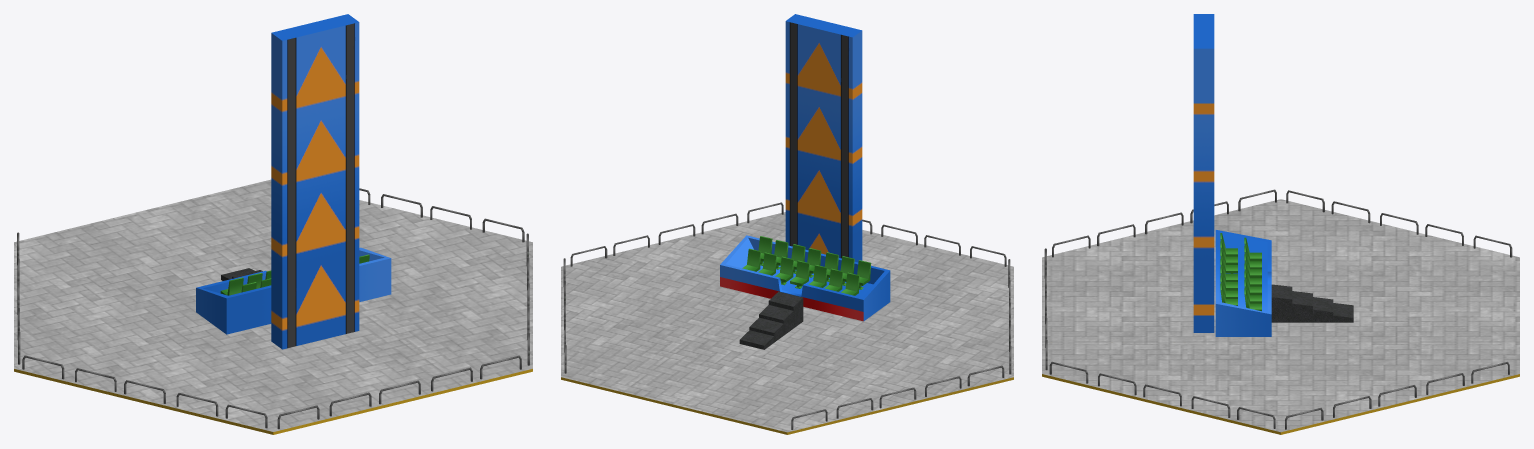
Rendered from ETC0210001.fbx.
3 renders of one model, left to right at view 1: azimuth 30°, elevation 25°; view 2: azimuth 150°, elevation 25°; view 3: azimuth 270°, elevation 25°, orthographic. The views are drawn at different scales.
Parts seen in each view (by area): view 1: smETC0210001; view 2: smETC0210001; view 3: smETC0210001.
Part boxes in pixels (box(x1,y1,x2,y2)): smETC0210001: box(14, 14, 532, 434); smETC0210001: box(561, 14, 1013, 434); smETC0210001: box(1042, 14, 1519, 434).
Size of the model in its own units: 2685 by 1541 by 2325.
1 material, 1 textured.
